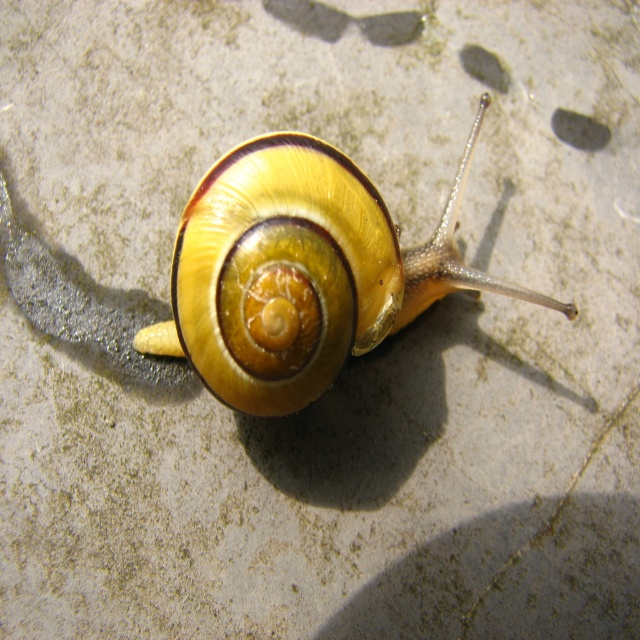Snail: (126, 90, 578, 427)
